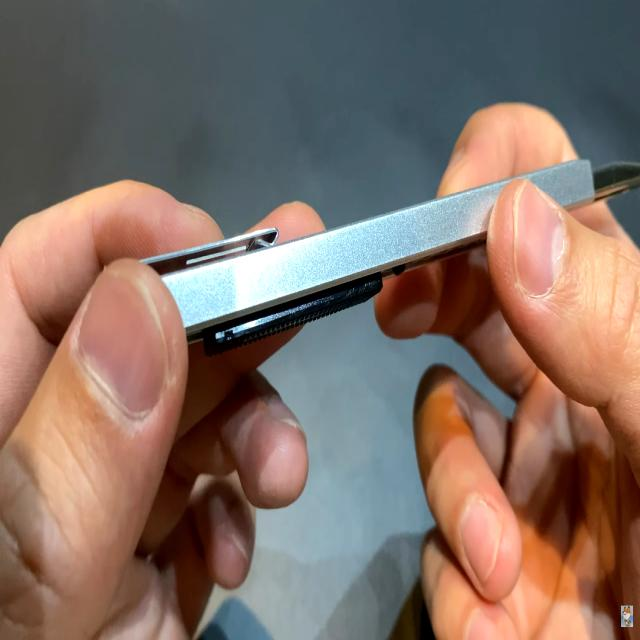cutter: (56, 104, 640, 510)
